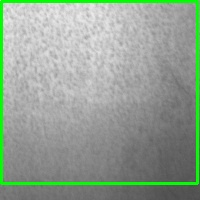pitted_surface: (1, 1, 197, 183)
